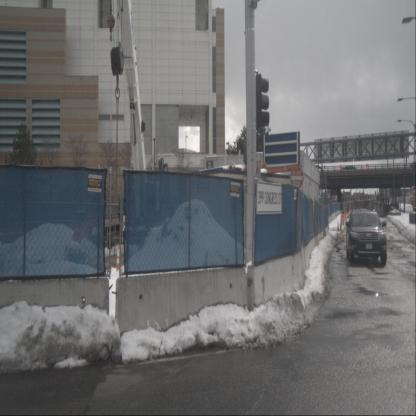barrier: (115, 267, 246, 350), (0, 280, 110, 362), (247, 250, 304, 326), (294, 235, 318, 289), (312, 233, 321, 250), (316, 230, 324, 244), (321, 228, 326, 240)
cone: (114, 242, 123, 282), (340, 214, 345, 226), (346, 211, 350, 220), (336, 220, 339, 231), (344, 212, 347, 222), (340, 222, 342, 231)
